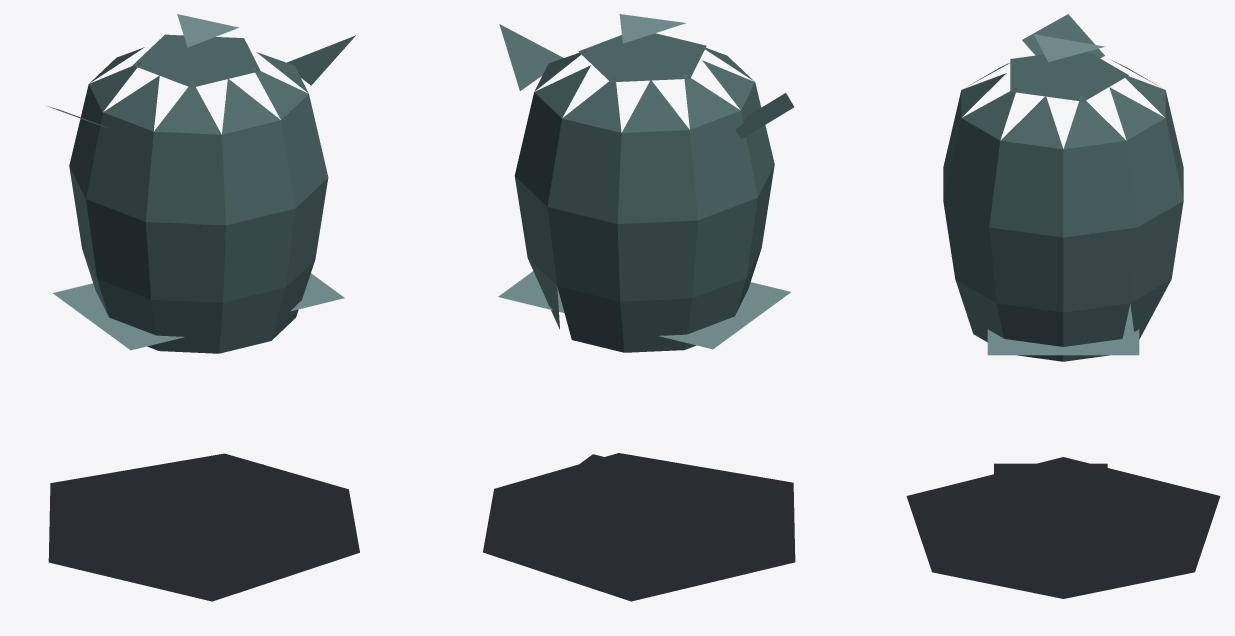
File: duravlex-fiber-armor.lod.glb
3 renders of one model, left to right at view 1: azimuth 30°, elevation 25°; view 2: azimuth 150°, elevation 25°; view 3: azimuth 270°, elevation 25°, orthographic. The views are drawn at different scales.
Parts seen in each view (by area): view 1: m; view 2: m; view 3: m.
Boxes of the visible parts, <box> form: m: <box>47,14,359,601</box>; m: <box>483,14,795,601</box>; m: <box>906,14,1220,598</box>.
Bounding box in the file's own units: 0.3318 × 0.4248 × 0.2398.
